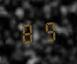eight: (19, 21, 37, 44)
nine: (38, 20, 56, 42)
